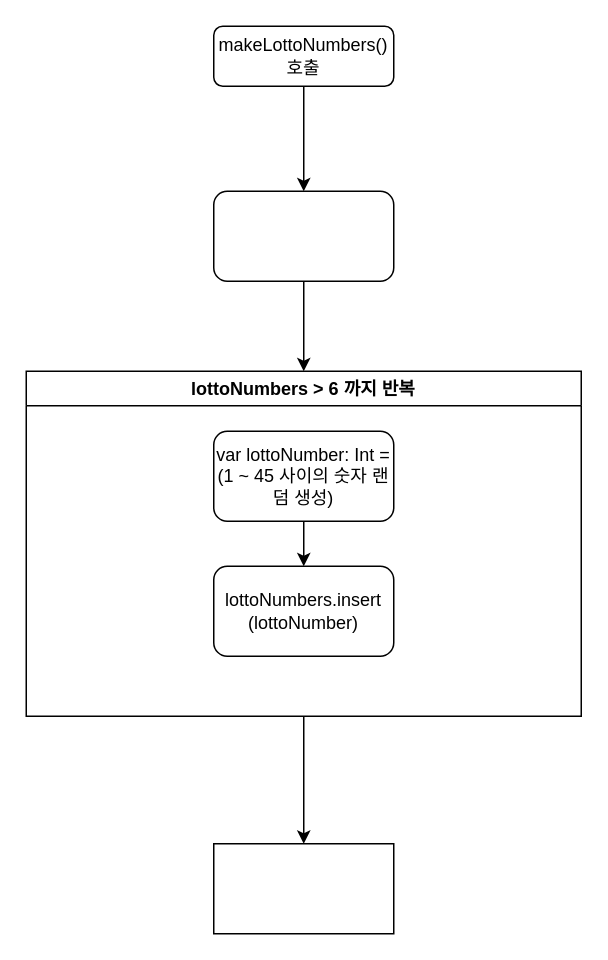
Some shapes in this 608 by 960 pixel diagram are drawn without their labels. The shapes that lost their labels are listed below. From the top down, each one's centre as x and y in pixels, then its label:
At point 303,235: "var lottoNumbers: Set<Int> = Set<Int>() 생성".
At point 303,888: "return lottoNumbers".
